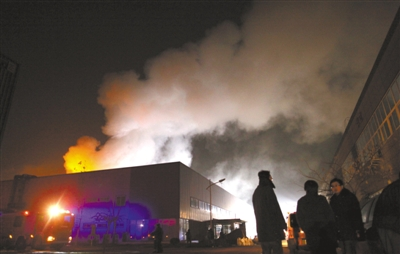smoke: (105, 13, 363, 128)
